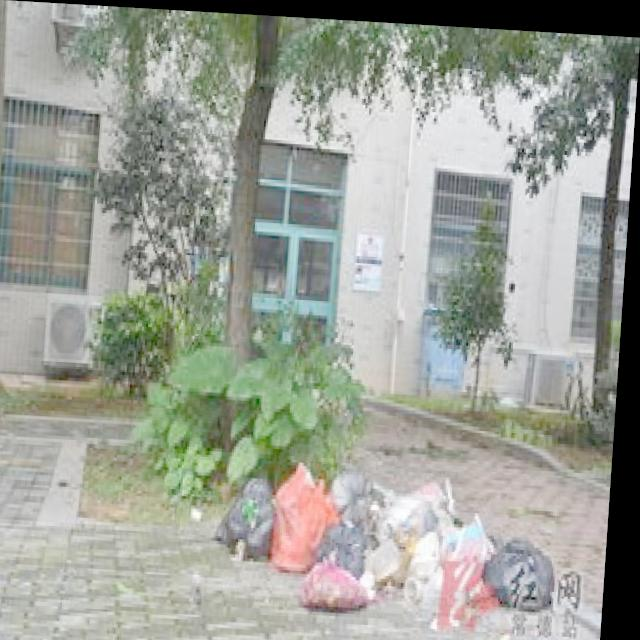garbage: (214, 449, 566, 612)
